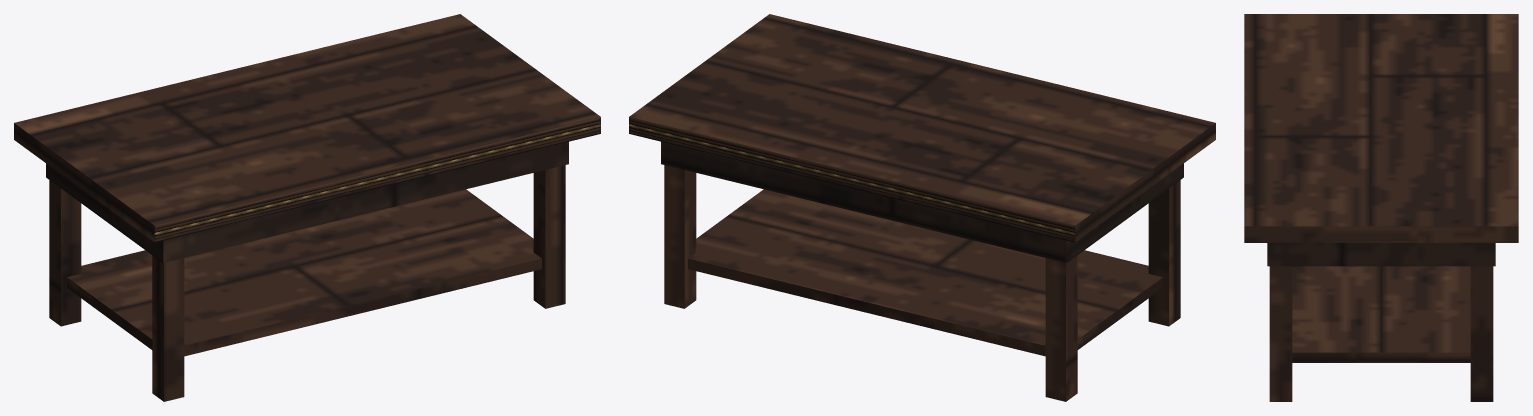
The model's file is Furn_Table_Coffee.fbx.
3 views of the same model, side by side, from view 1: azimuth 30°, elevation 25°; view 2: azimuth 150°, elevation 25°; view 3: azimuth 270°, elevation 25° (orthographic). The views are drawn at different scales.
Parts seen in each view (by area): view 1: Furn_Table_Coffee; view 2: Furn_Table_Coffee; view 3: Furn_Table_Coffee.
Part boxes in pixels (bbox=[...]): Furn_Table_Coffee: bbox=[14, 14, 600, 401]; Furn_Table_Coffee: bbox=[629, 14, 1215, 401]; Furn_Table_Coffee: bbox=[1244, 14, 1518, 401].
Bounding box in the file's own units: 1.1 × 0.45 × 0.6.
